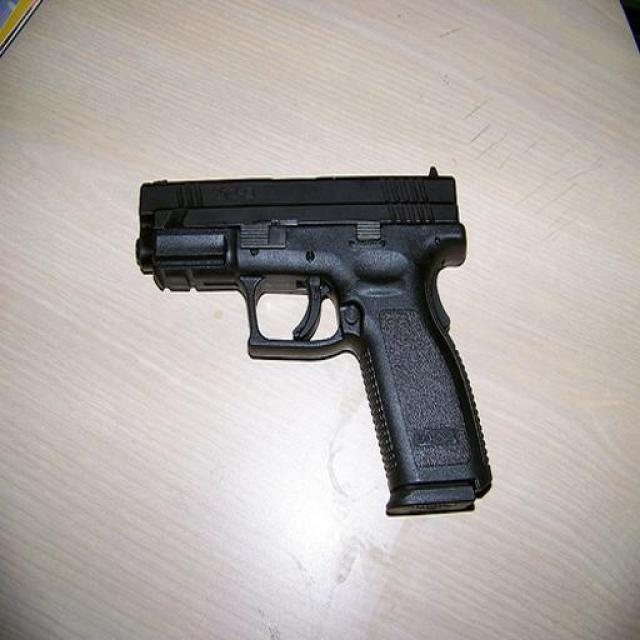pistol: (133, 169, 494, 524)
